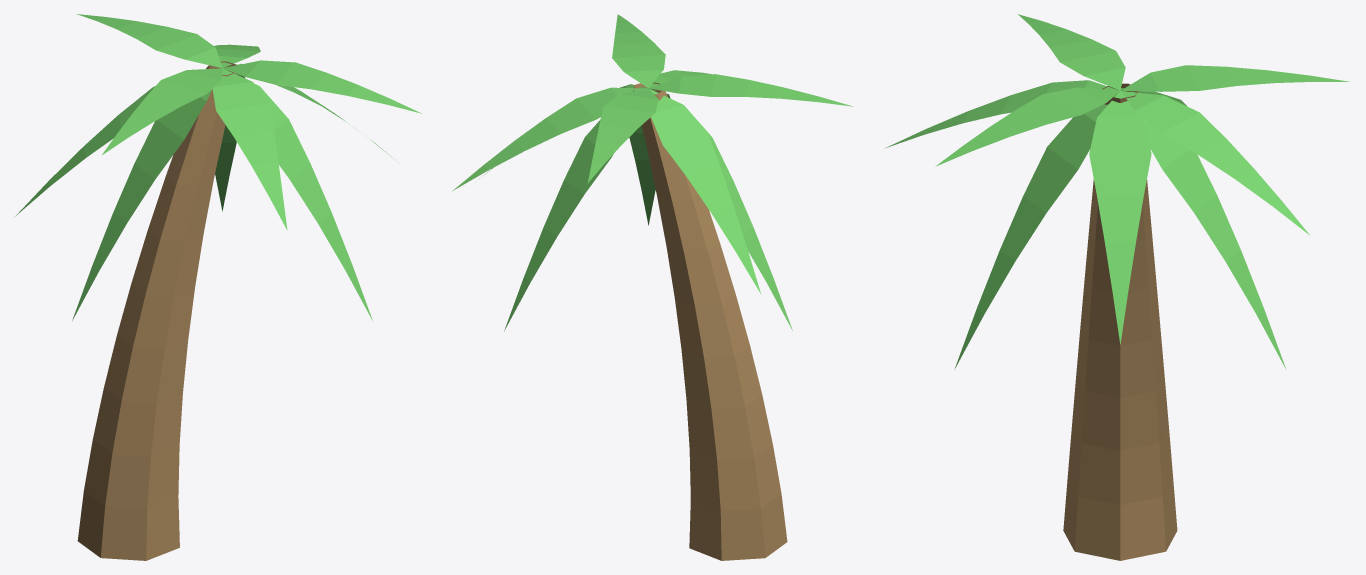
File: PalmTree.fbx
The picture shows the model from 3 angles, left to right: view 1: azimuth 30°, elevation 25°; view 2: azimuth 150°, elevation 25°; view 3: azimuth 270°, elevation 25°; orthographic projection. The views are drawn at different scales.
Parts seen in each view (by area): view 1: PalmTree_TrunkMat.002, PalmTree_LeafMat; view 2: PalmTree_TrunkMat.002, PalmTree_LeafMat; view 3: PalmTree_LeafMat, PalmTree_TrunkMat.002.
Boxes of the visible parts, bbox=[...] form: PalmTree_TrunkMat.002: bbox=[77, 61, 237, 560]; PalmTree_LeafMat: bbox=[15, 14, 421, 320]; PalmTree_TrunkMat.002: bbox=[633, 82, 787, 560]; PalmTree_LeafMat: bbox=[453, 14, 852, 331]; PalmTree_LeafMat: bbox=[885, 14, 1349, 369]; PalmTree_TrunkMat.002: bbox=[1063, 83, 1177, 560].
Size of the model in its own units: 733 by 910 by 773.
